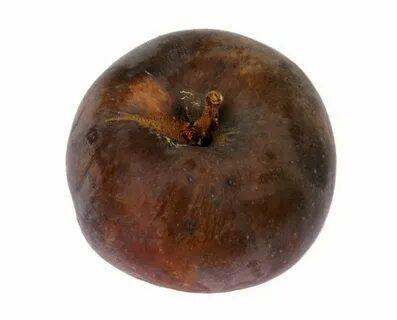Apple: (66, 31, 337, 290)
